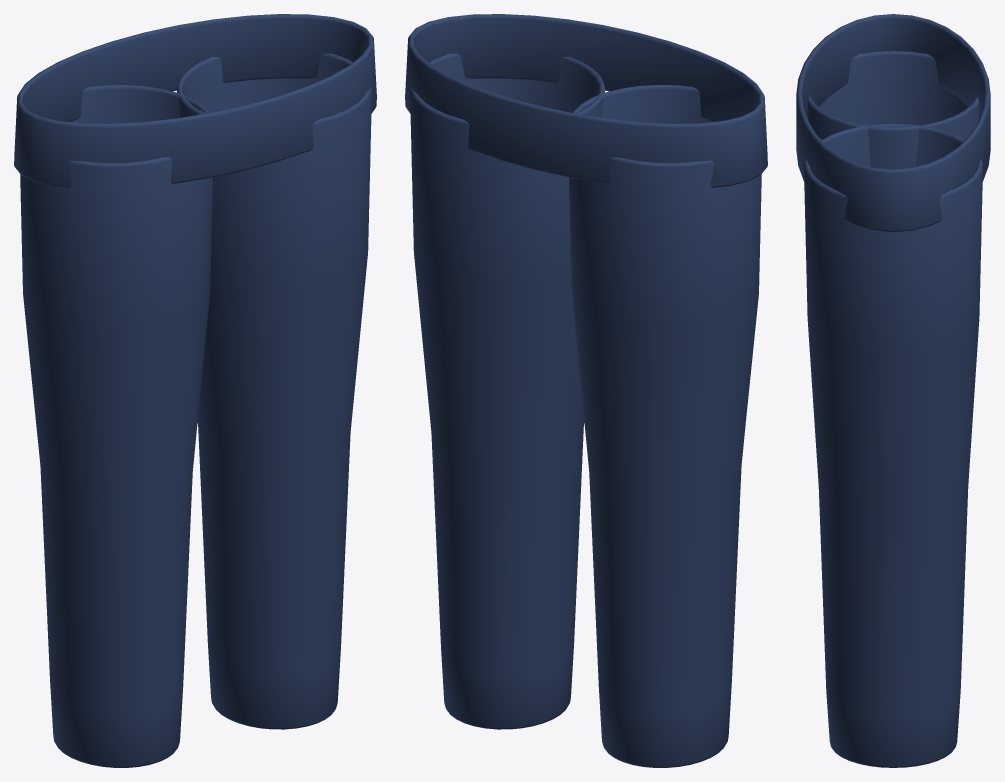
File: pantalon-ra.glb
3 renders of one model, left to right at view 1: azimuth 30°, elevation 25°; view 2: azimuth 150°, elevation 25°; view 3: azimuth 270°, elevation 25°, orthographic. The views are drawn at different scales.
Visible parts, largest first — view 1: Tailored trousers leg, Tailored trousers leg.001, Tailored trousers waistband; view 2: Tailored trousers leg, Tailored trousers leg.001, Tailored trousers waistband; view 3: Tailored trousers leg.001, Tailored trousers waistband, Tailored trousers leg.
Boxes of the visible parts, x1,y1,x2,y2 form: Tailored trousers leg: [20, 84, 212, 767]; Tailored trousers leg.001: [176, 53, 371, 729]; Tailored trousers waistband: [14, 14, 376, 187]; Tailored trousers leg: [569, 84, 761, 767]; Tailored trousers leg.001: [410, 53, 605, 729]; Tailored trousers waistband: [405, 14, 767, 187]; Tailored trousers leg.001: [804, 123, 982, 767]; Tailored trousers waistband: [796, 14, 990, 232]; Tailored trousers leg: [808, 51, 978, 169].
Bounding box in the file's own units: 0.5096 × 0.9098 × 0.26.
